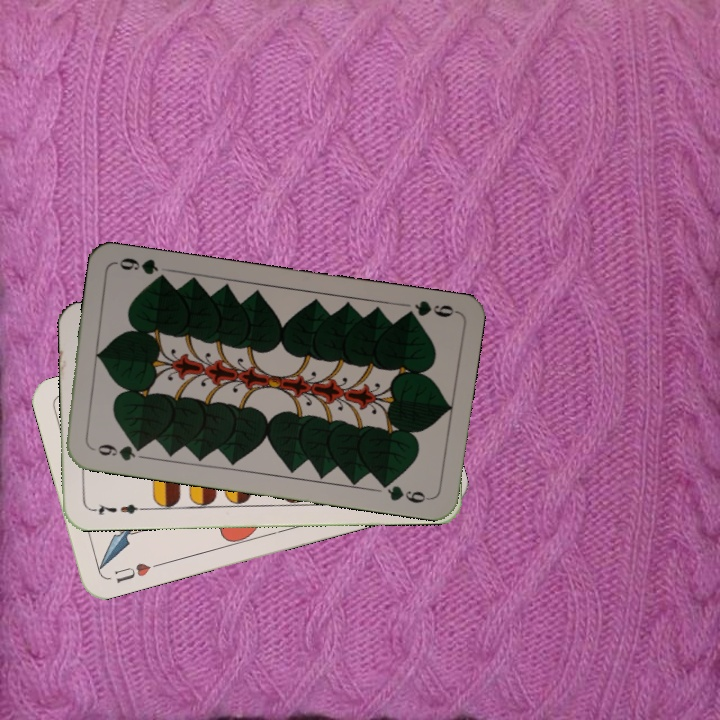E7: (87, 500, 146, 518)
G9: (399, 296, 459, 322), (86, 440, 146, 464)
HU: (110, 558, 163, 586)
